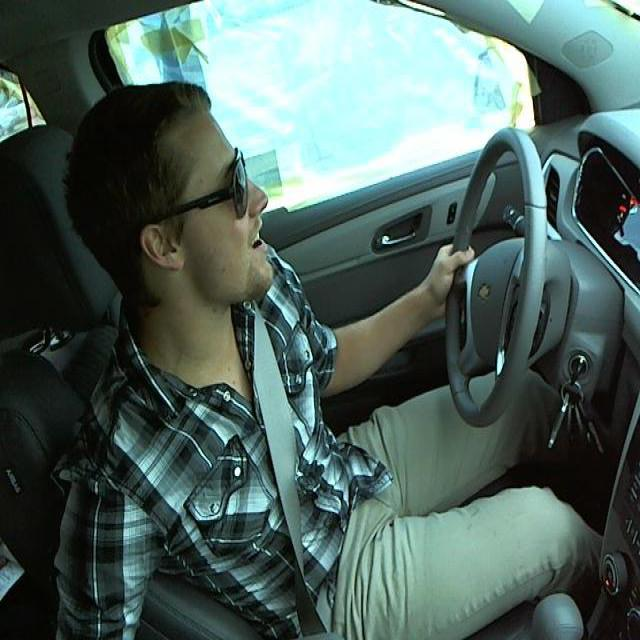seatbelt: (230, 318, 360, 638)
